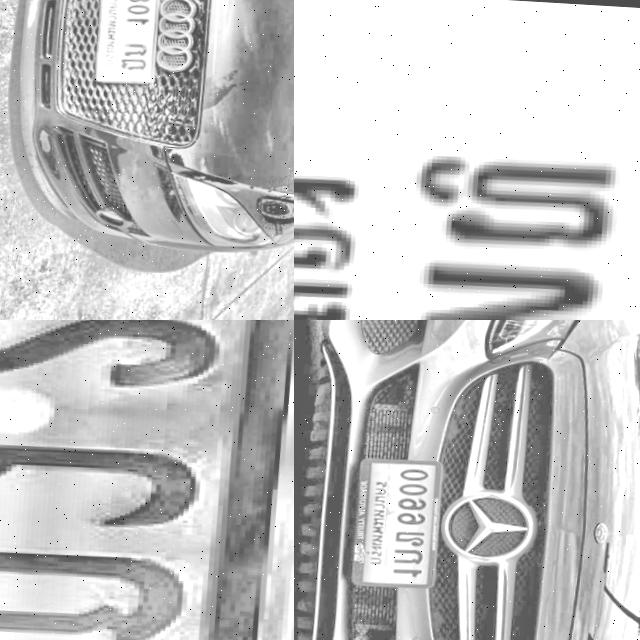license-plate: (294, 0, 640, 320), (0, 320, 294, 640), (350, 453, 449, 591), (97, 0, 167, 82)
